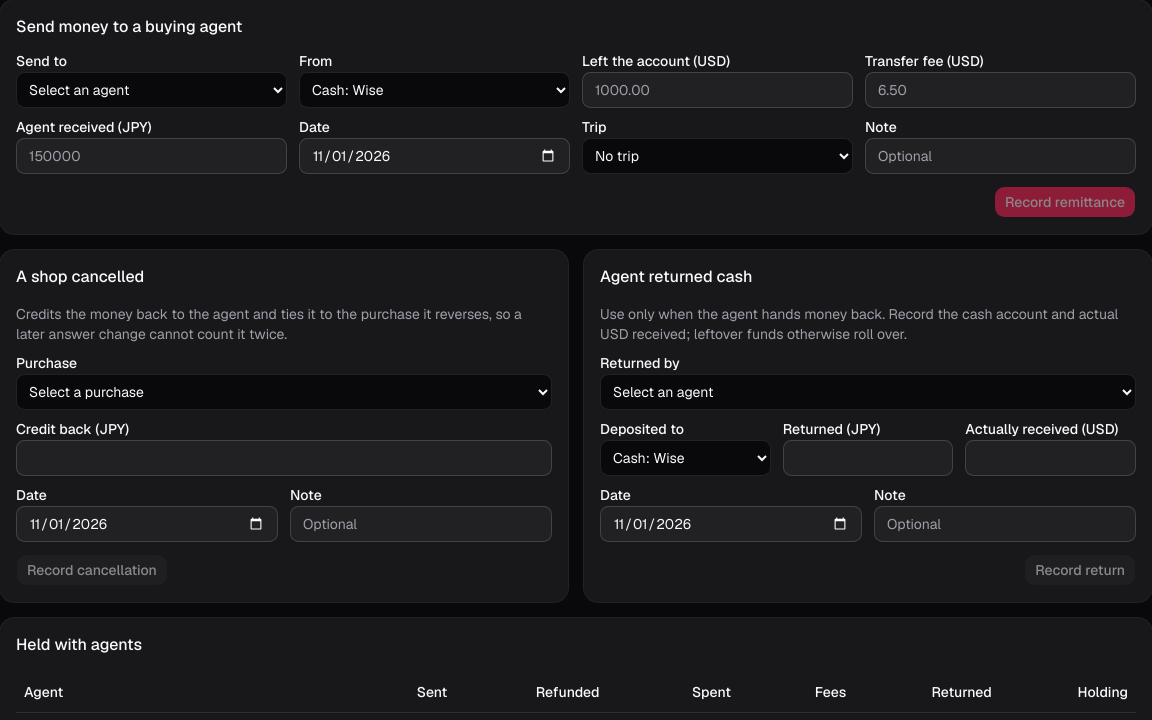
Test case: BuyerFloatView › never falls back to a settlement signature without cash evidence
Expected: the dropdown labelled "Send to" is enabled, [16,72,287,108]
Select "agent@example.com - holding ¥57,100" in the dropdown labelled "Returned by" at [868, 392], box [600,374,1136,410]
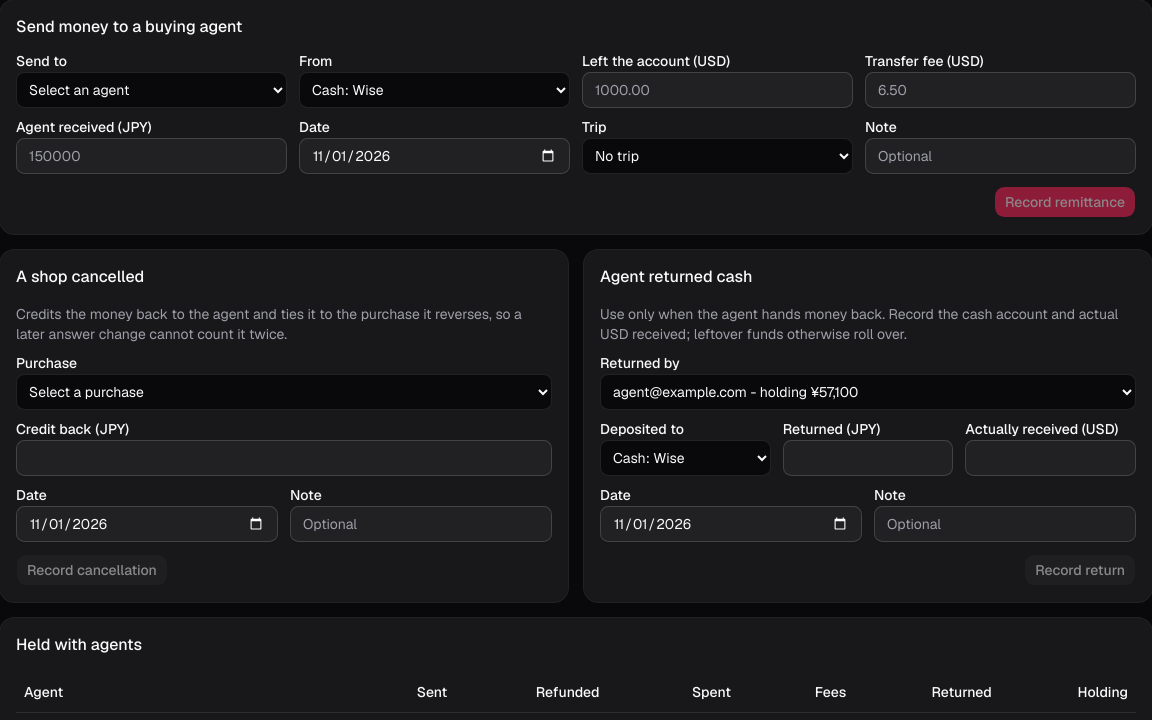
Type "500" into the field labelled "Returned (JPY)" at [868, 458], box [783,440,953,476]
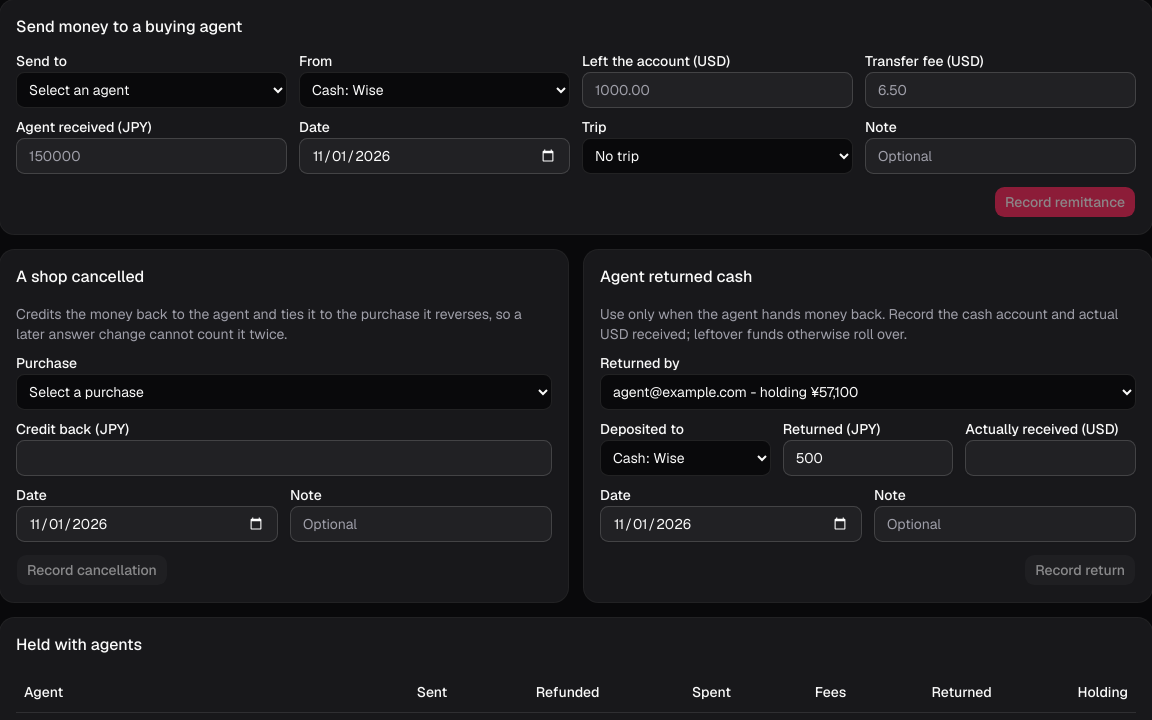
Type "3.25" into the field labelled "Actually received (USD)" at [1051, 458], box [965,440,1136,476]
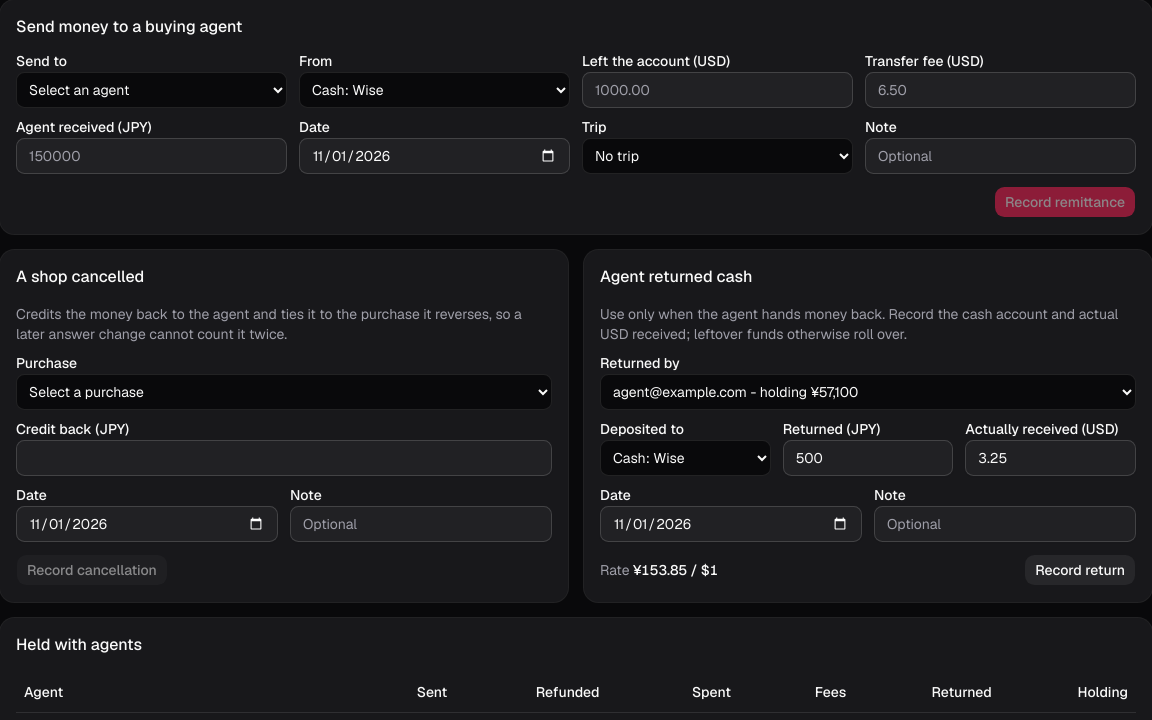
Click the button "Record return" at [1080, 570], box [1024,554,1136,586]
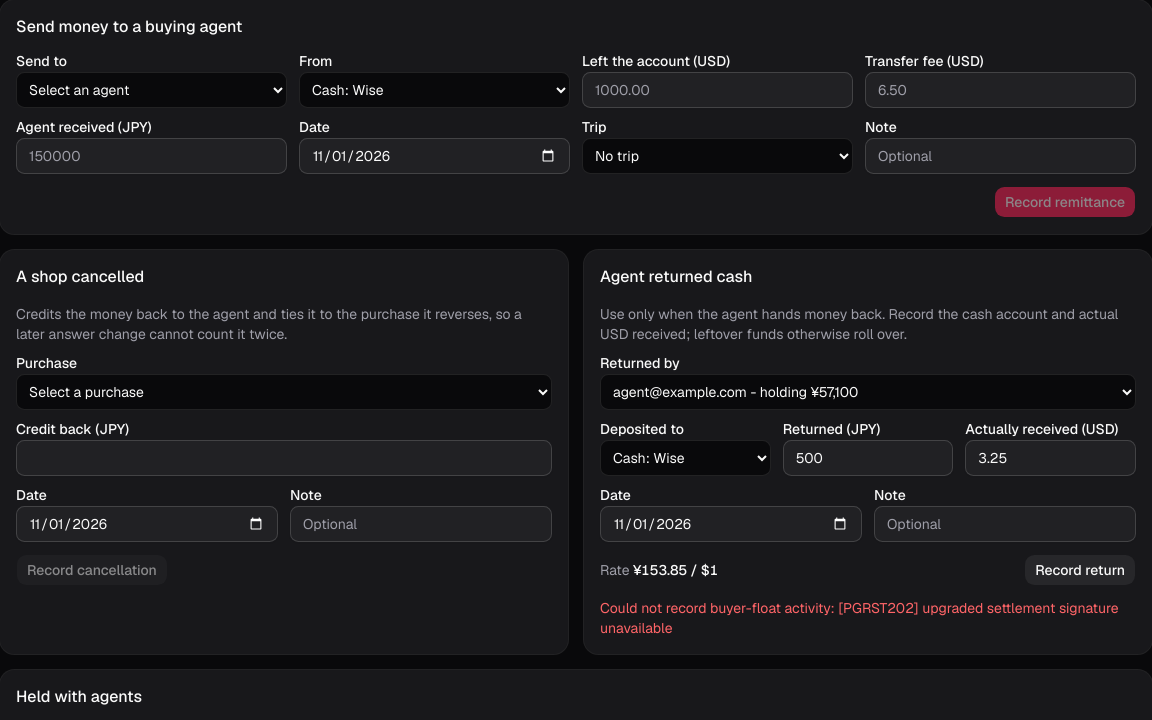
Expected: the message shows "upgraded settlement signature unavailable", [600,599,1119,637]
